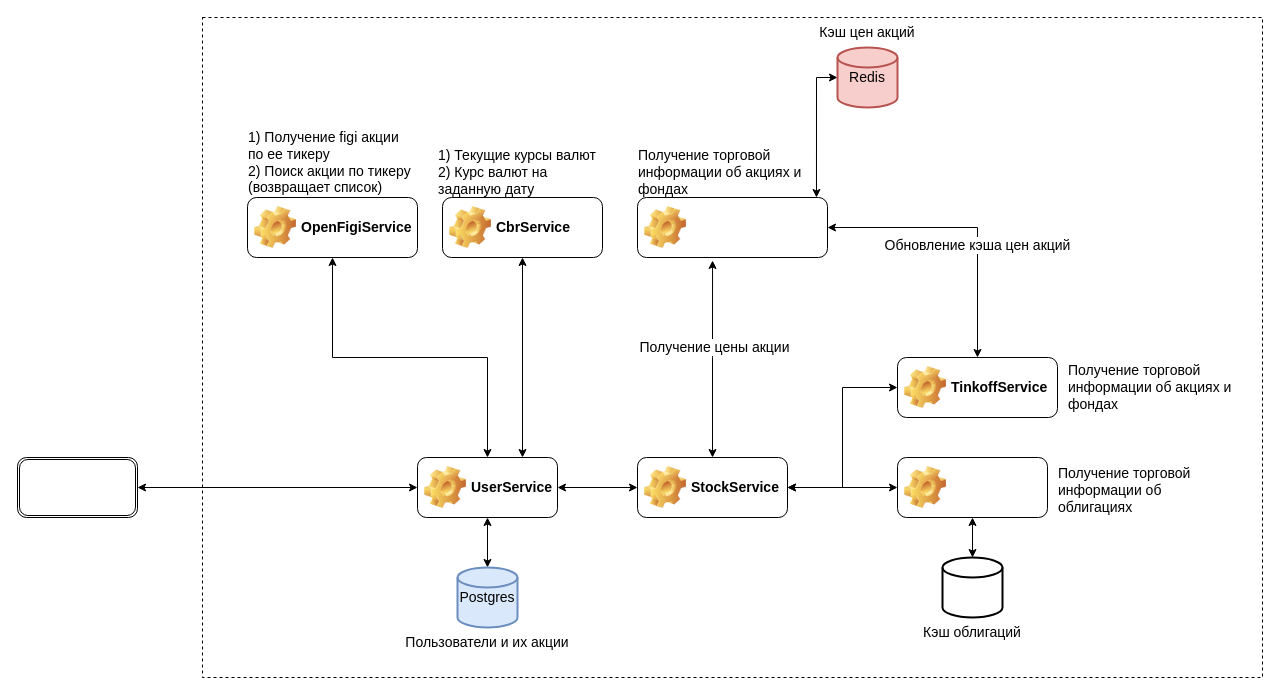
Some shapes in this 1280 by 695 pixel diagram are drawn without their labels. Each missing label, with the centre of its shape:
"MoexService" belongs at pixel 972 487.
"StockCacheService" belongs at pixel 732 227.
"TelegramBot" belongs at pixel 77 487.
